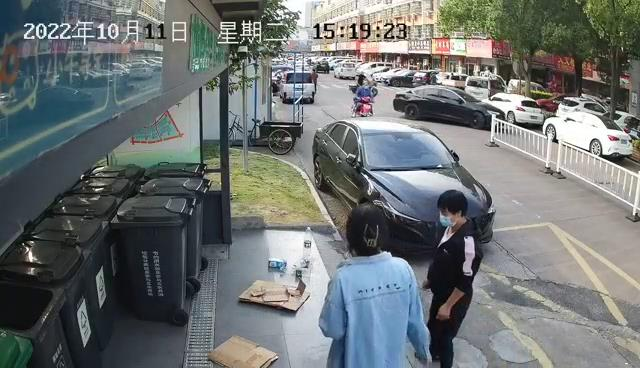person: (421, 189, 483, 368)
suliaozhipin: (302, 225, 313, 262)
worker: (318, 202, 432, 368)
zhizhipin: (238, 277, 312, 313), (206, 334, 281, 368), (266, 256, 289, 272)
